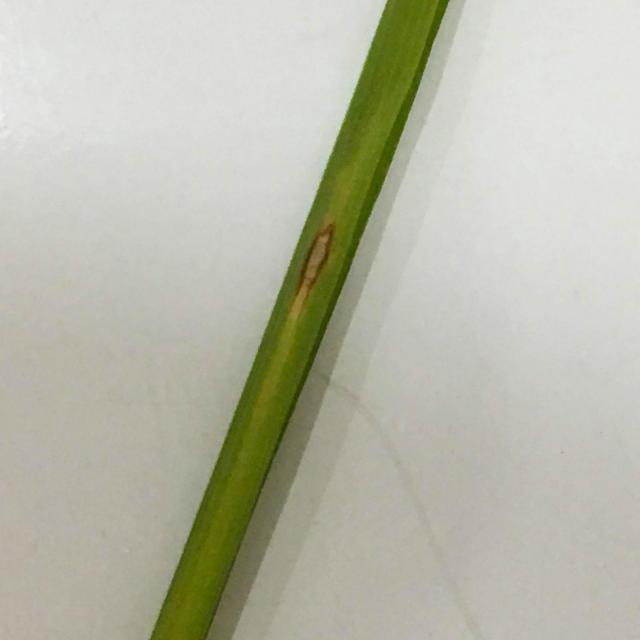Leaf_Blast: (289, 212, 360, 323)
